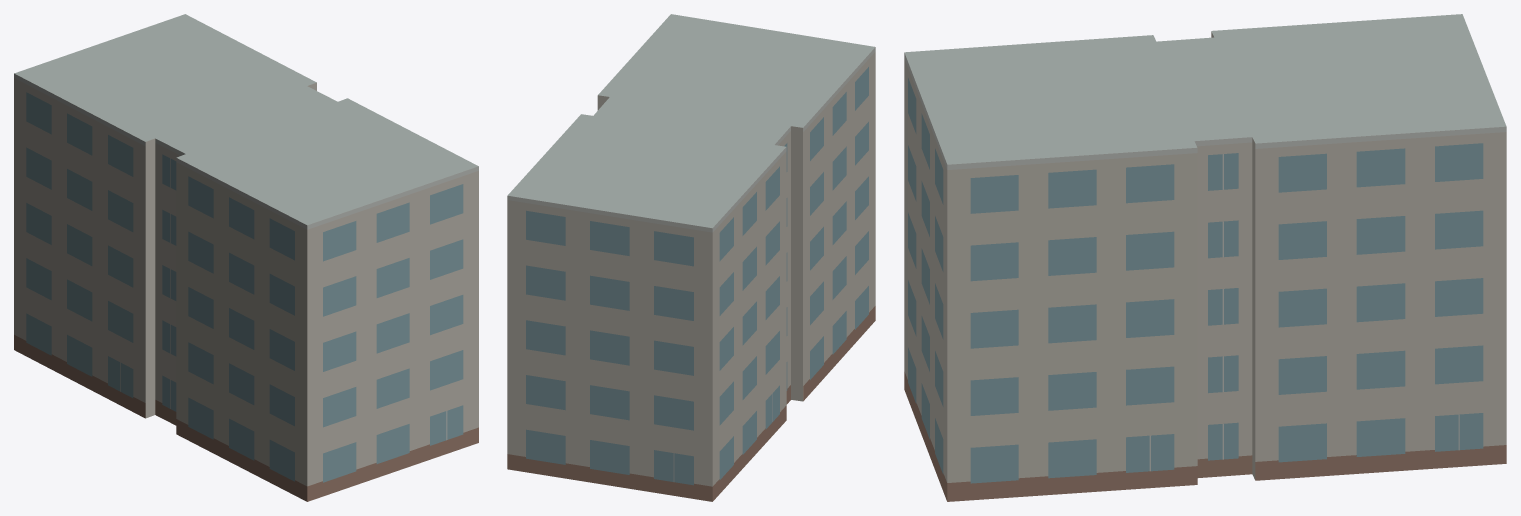
The model's file is survey-upis-33029698.glb.
3 views of the same model, side by side, from view 1: azimuth 30°, elevation 25°; view 2: azimuth 150°, elevation 25°; view 3: azimuth 270°, elevation 25° (orthographic). The views are drawn at different scales.
Visible parts, largest first — view 1: survey-upis-33029698.tmp; view 2: survey-upis-33029698.tmp; view 3: survey-upis-33029698.tmp.
Part boxes in pixels (left/top/right/bottom): survey-upis-33029698.tmp: left=14, top=14, right=478, bottom=501; survey-upis-33029698.tmp: left=507, top=14, right=875, bottom=501; survey-upis-33029698.tmp: left=904, top=14, right=1506, bottom=501.
Bounding box in the file's own units: 14.63 × 15.25 × 24.7.
